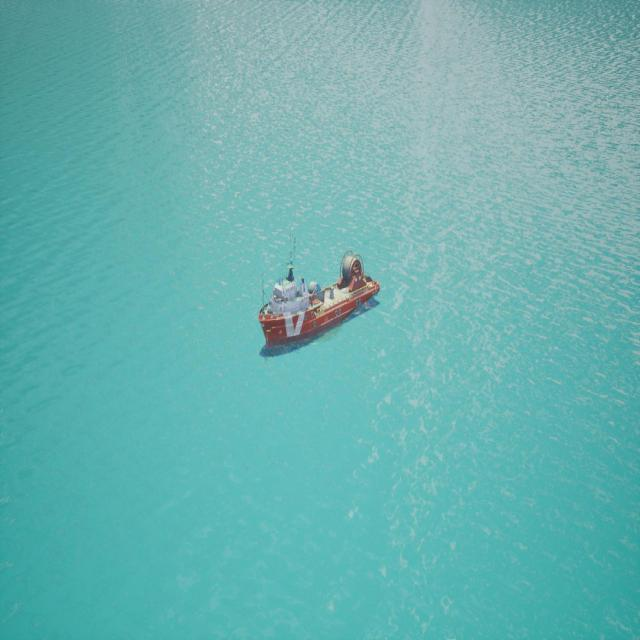tug boat: (257, 255, 383, 358)
